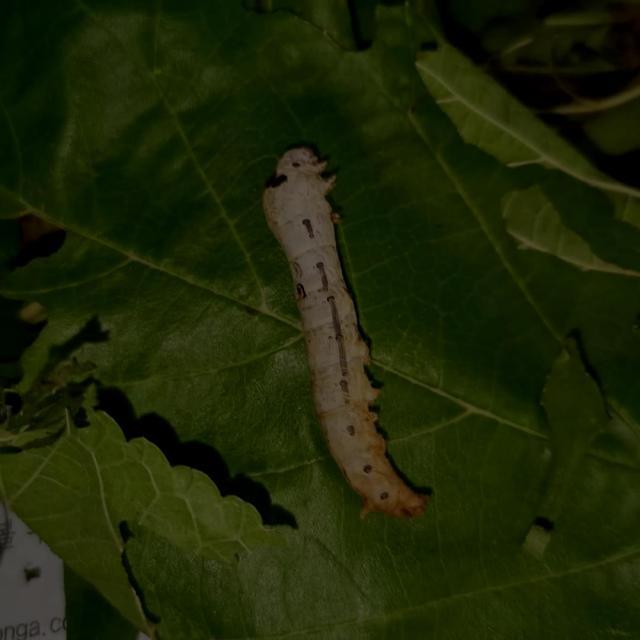Grasserie: (251, 138, 449, 532)
